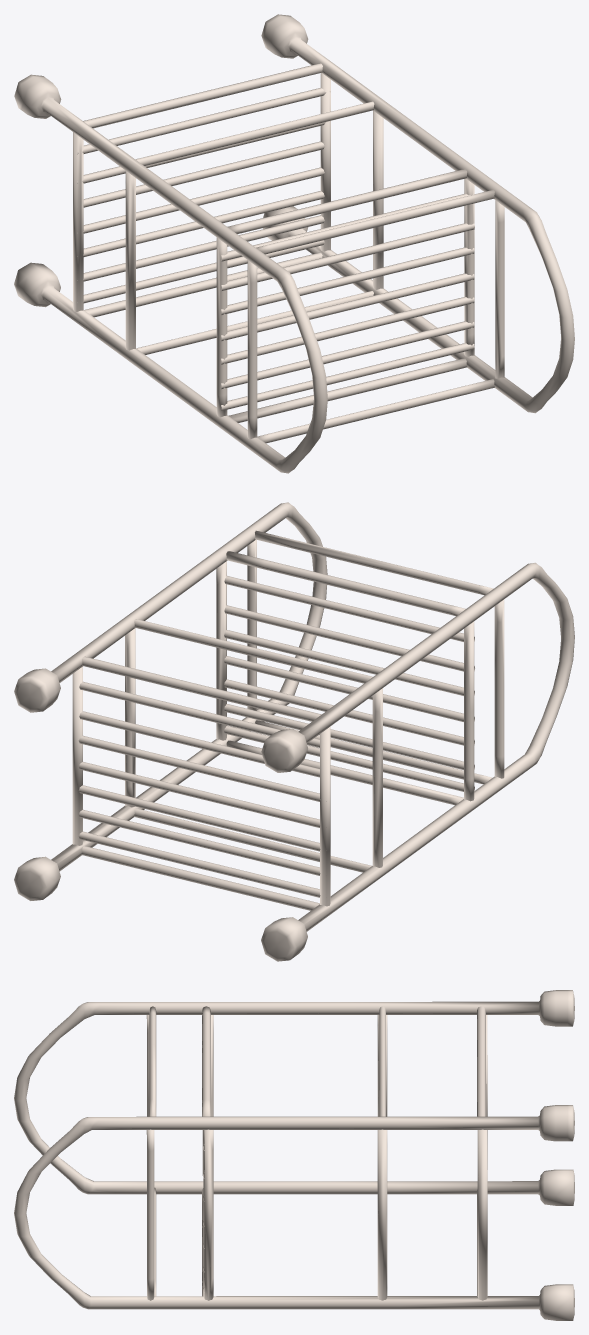
File: CartmeshFp401_Cube_050_0.obj
3 views of the same model, one above another, from view 1: azimuth 30°, elevation 25°; view 2: azimuth 150°, elevation 25°; view 3: azimuth 270°, elevation 25° (orthographic). The views are drawn at different scales.
Parts seen in each view (by area): view 1: Fp401_Cube_050; view 2: Fp401_Cube_050; view 3: Fp401_Cube_050.
Boxes of the visible parts, box(x1,y1,x2,y2) form: Fp401_Cube_050: box(14, 14, 574, 473); Fp401_Cube_050: box(14, 502, 574, 961); Fp401_Cube_050: box(14, 990, 574, 1320).
Bounding box in the file's own units: 0.7047 × 0.5357 × 1.28.
